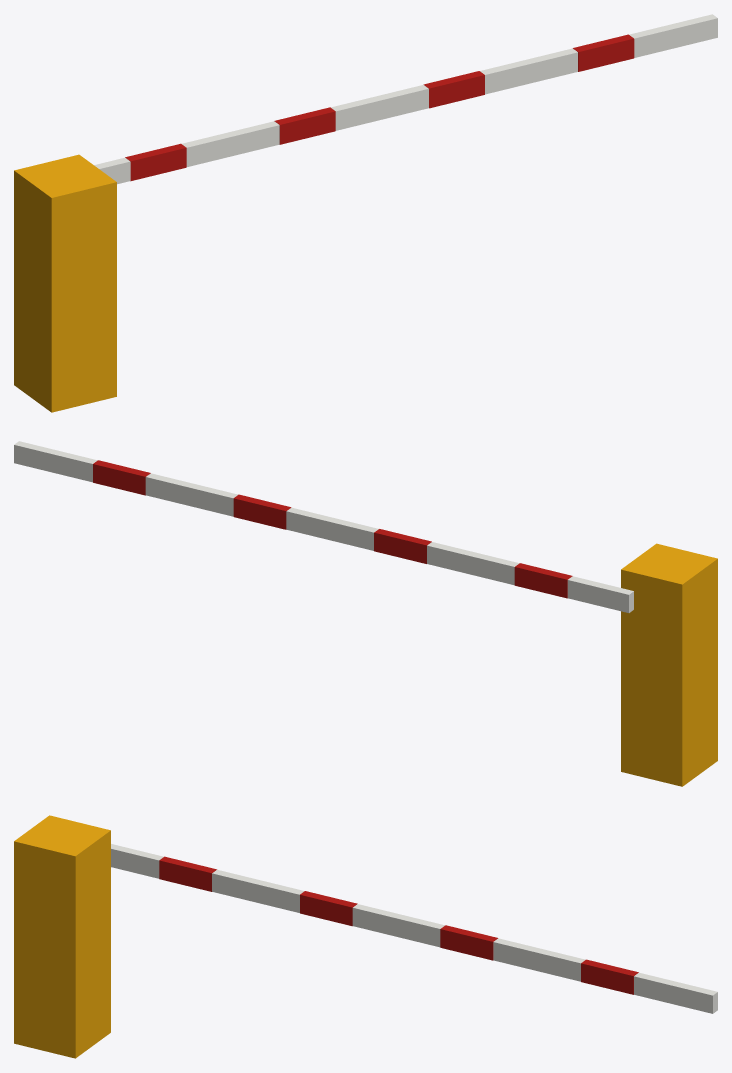
File: boundary.gate.barrier_arm.glb
The picture shows the model from 3 angles, top to bottom: view 1: azimuth 30°, elevation 25°; view 2: azimuth 150°, elevation 25°; view 3: azimuth 330°, elevation 25°; orthographic projection. The views are drawn at different scales.
Parts seen in each view (by area): view 1: main__plant_yellow, main__paint_white, main__hazard_red; view 2: main__plant_yellow, main__paint_white, main__hazard_red; view 3: main__plant_yellow, main__paint_white, main__hazard_red.
Boxes of the visible parts, x1,y1,x2,y2 form: main__plant_yellow: [14, 154, 116, 412]; main__paint_white: [94, 14, 717, 184]; main__hazard_red: [125, 34, 634, 181]; main__plant_yellow: [621, 543, 717, 786]; main__paint_white: [14, 441, 633, 612]; main__hazard_red: [93, 460, 572, 598]; main__plant_yellow: [14, 815, 110, 1058]; main__paint_white: [111, 844, 717, 1013]; main__hazard_red: [159, 856, 638, 994].
Size of the model in its own units: 3.77 by 1.1 by 0.401.
